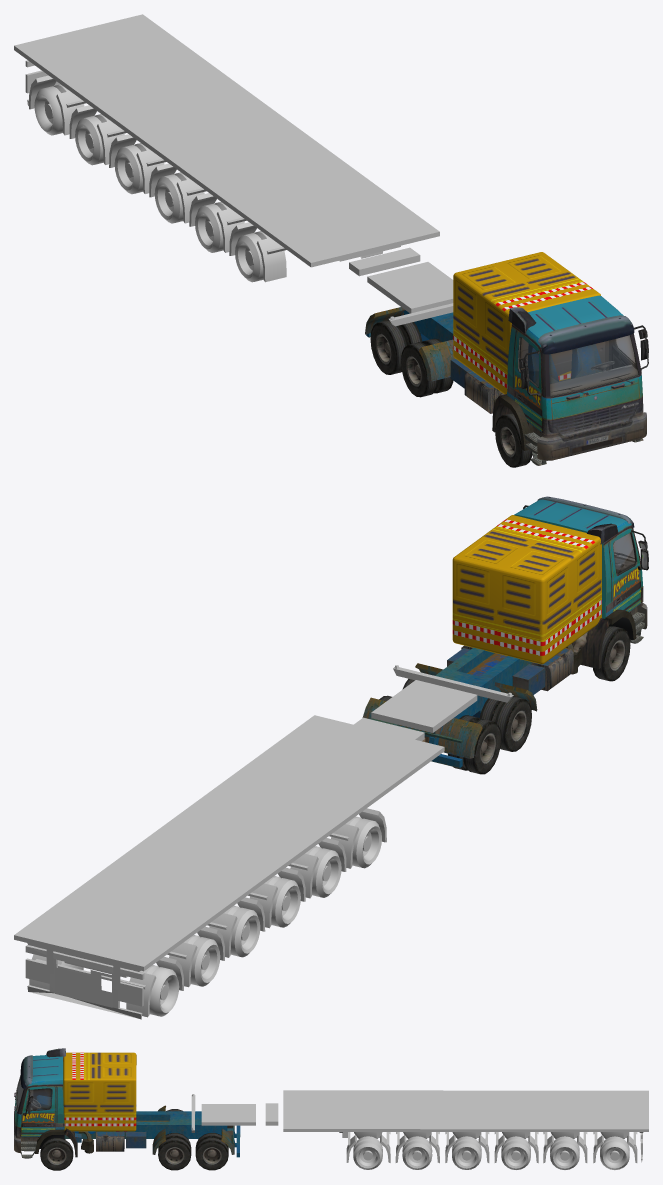
File: oil tanker 5.FBX
3 renders of one model, top to bottom at view 1: azimuth 30°, elevation 25°; view 2: azimuth 150°, elevation 25°; view 3: azimuth 270°, elevation 25°, orthographic. The views are drawn at different scales.
Parts seen in each view (by area): view 1: trailer, front body, mud guard, glass, tyre 7, tyre 8, front right, tyre 4, tyre 2, tyre 5, tyre 3, tyre 1 (+1 smaller); view 2: trailer, front body, mud guard, back (×2), tyre 8, tyre 7, front right, tyre 1, tyre 4, tyre 5, tyre 2, tyre 6 (+1 smaller); view 3: trailer, front body, mud guard, tyre 8, tyre 7, tyre 5, tyre 1, tyre 4, tyre 2, tyre 3, tyre 6, left tyre (+1 smaller).
Boxes of the visible parts, <box> form: trailer: <box>14,14,453,326</box>; front body: <box>365,252,648,465</box>; mud guard: <box>29,75,382,282</box>; glass: <box>519,335,638,396</box>; tyre 7: <box>370,320,422,374</box>; tyre 8: <box>401,338,453,397</box>; front right: <box>495,413,532,467</box>; tyre 4: <box>154,172,189,223</box>; tyre 2: <box>75,114,110,165</box>; tyre 5: <box>195,202,229,252</box>; tyre 3: <box>114,143,149,194</box>; tyre 1: <box>34,84,69,135</box>; trailer: <box>14,665,513,971</box>; front body: <box>362,496,648,768</box>; mud guard: <box>29,808,386,1017</box>; back (×2): <box>25,943,144,1019</box>; tyre 8: <box>402,678,531,751</box>; tyre 7: <box>379,695,501,774</box>; front right: <box>593,626,630,681</box>; tyre 1: <box>58,952,179,1016</box>; tyre 4: <box>264,876,300,927</box>; tyre 5: <box>305,846,341,897</box>; tyre 2: <box>184,935,220,986</box>; tyre 6: <box>346,816,381,868</box>; trailer: <box>191,1090,648,1132</box>; front body: <box>14,1048,240,1158</box>; mud guard: <box>339,1132,637,1163</box>; tyre 8: <box>158,1109,191,1170</box>; tyre 7: <box>195,1133,228,1170</box>; tyre 5: <box>402,1132,432,1169</box>; tyre 1: <box>600,1132,629,1170</box>; tyre 4: <box>452,1132,481,1169</box>; tyre 2: <box>550,1132,579,1169</box>; tyre 3: <box>501,1132,530,1169</box>; tyre 6: <box>353,1132,382,1169</box>; left tyre: <box>40,1138,73,1170</box>.
Size of the model in its own units: 2.44 by 2.68 by 16.67.
